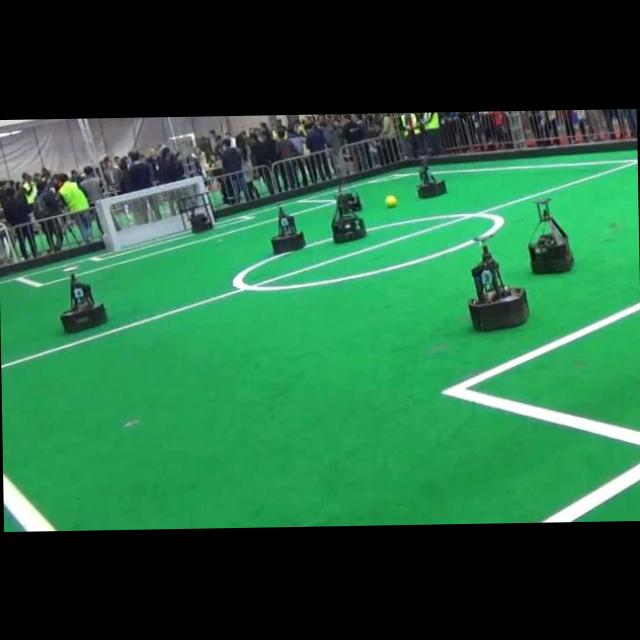ball: (384, 194, 397, 207)
goal: (98, 199, 120, 251)
robot: (468, 245, 528, 329), (528, 198, 572, 272), (60, 273, 105, 331), (331, 192, 366, 242), (271, 207, 304, 254), (177, 192, 213, 232), (418, 156, 445, 196)
